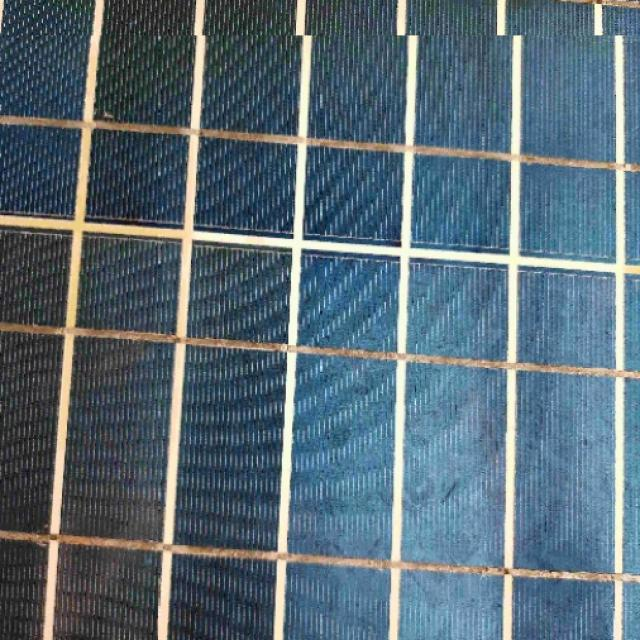Clean: (0, 35, 640, 640)
